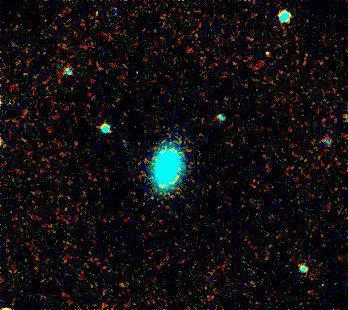star: (253, 34, 283, 64)
